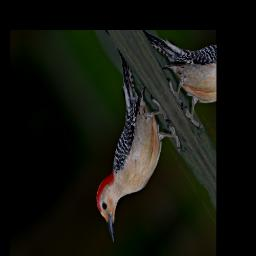Woodpecker: (42, 42, 195, 247)
